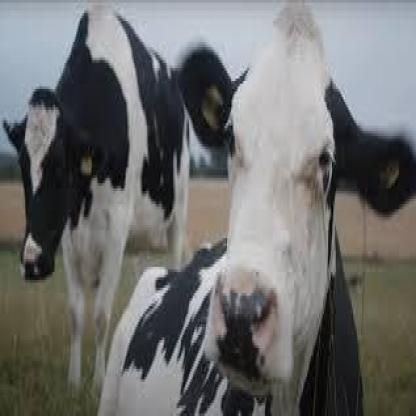cow: (96, 23, 416, 416), (4, 8, 189, 398)
